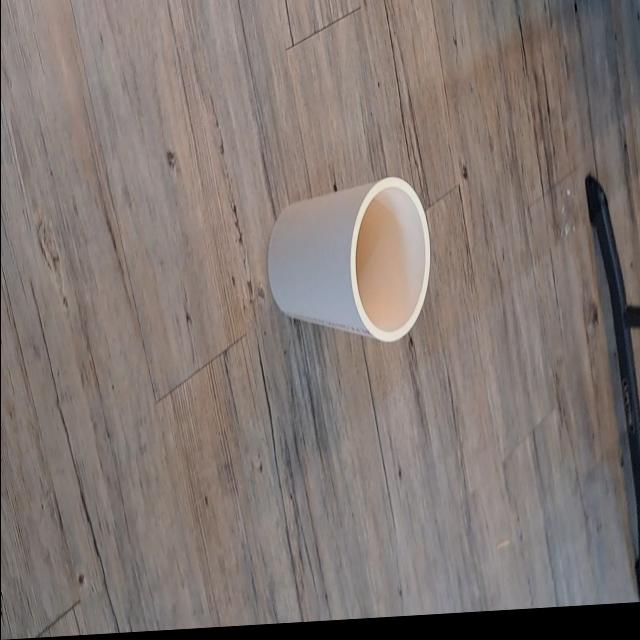CORAL: (258, 134, 450, 399)
